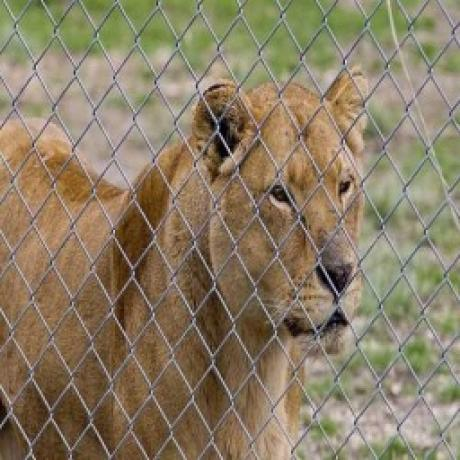Lion: (0, 64, 369, 460)
